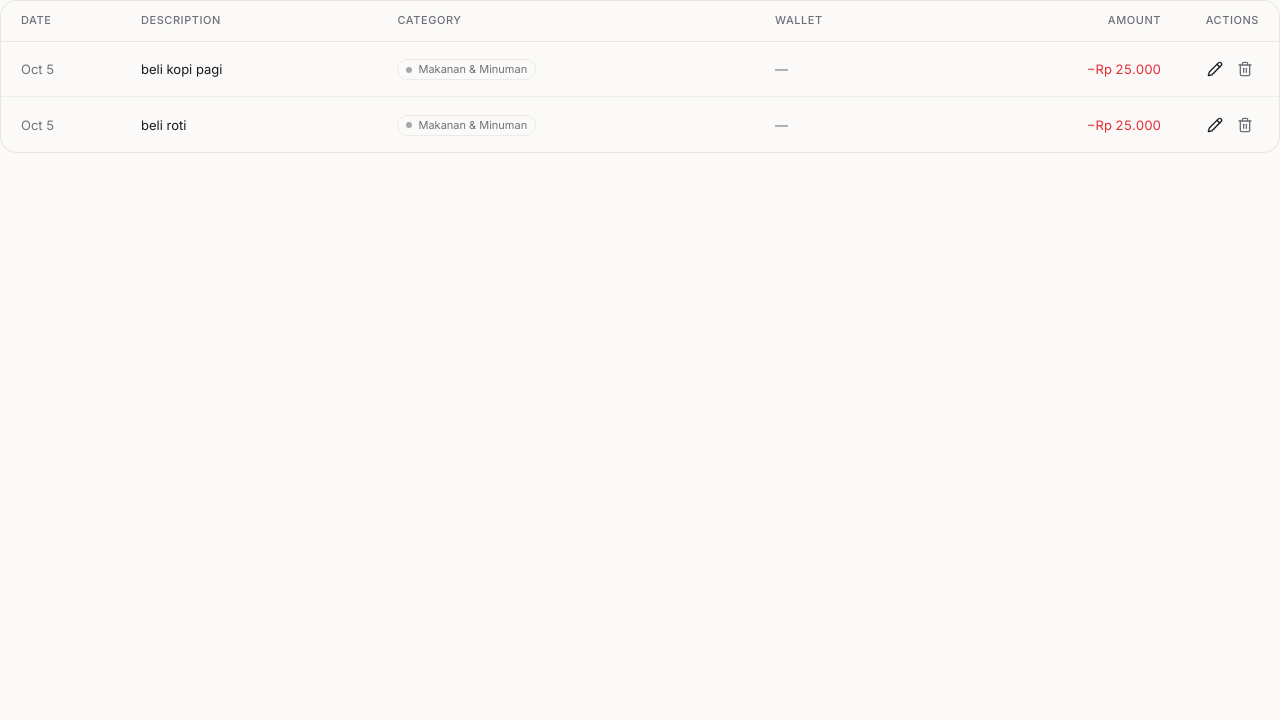
it: U-4: snackbar action semantics › Undo is a native, focusable <button> with a >=40px inline target
Click the button named "Delete transaction" in the row of "beli kopi pagi" at (1245, 69), box x1=1231 y1=55 x2=1259 y2=83
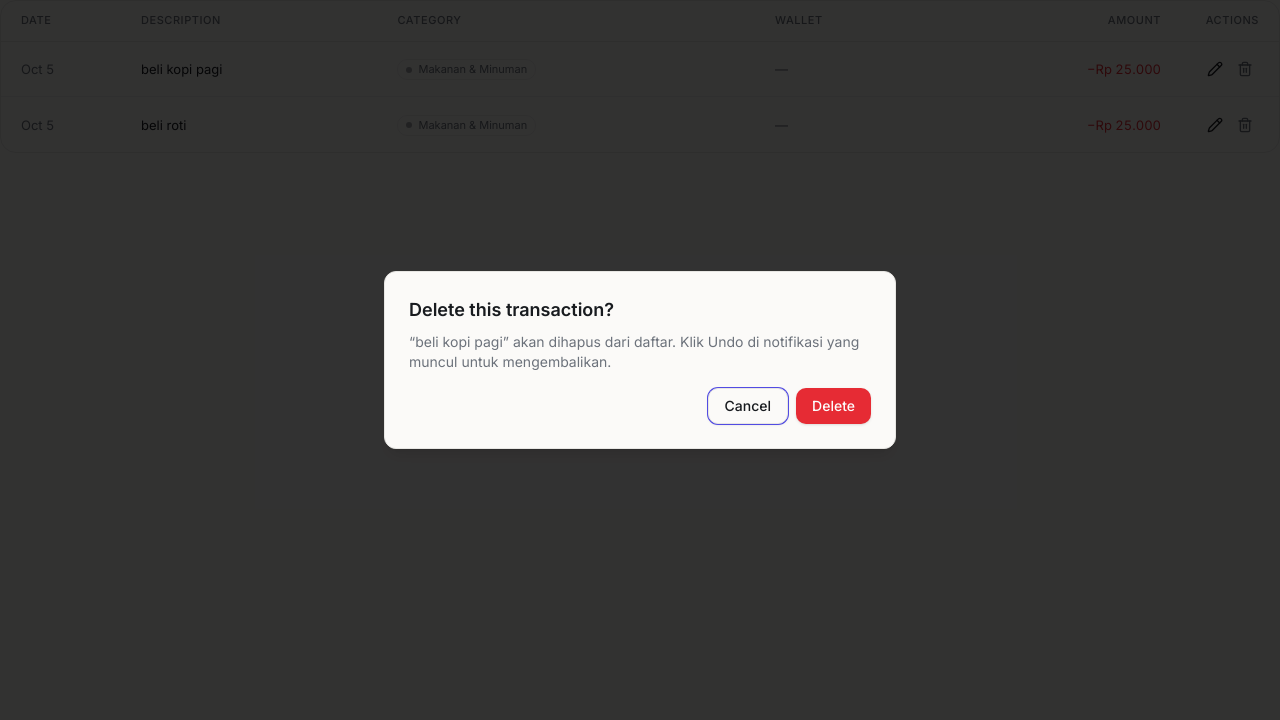
Click the button "Delete" at (834, 406), box x1=796 y1=388 x2=871 y2=424
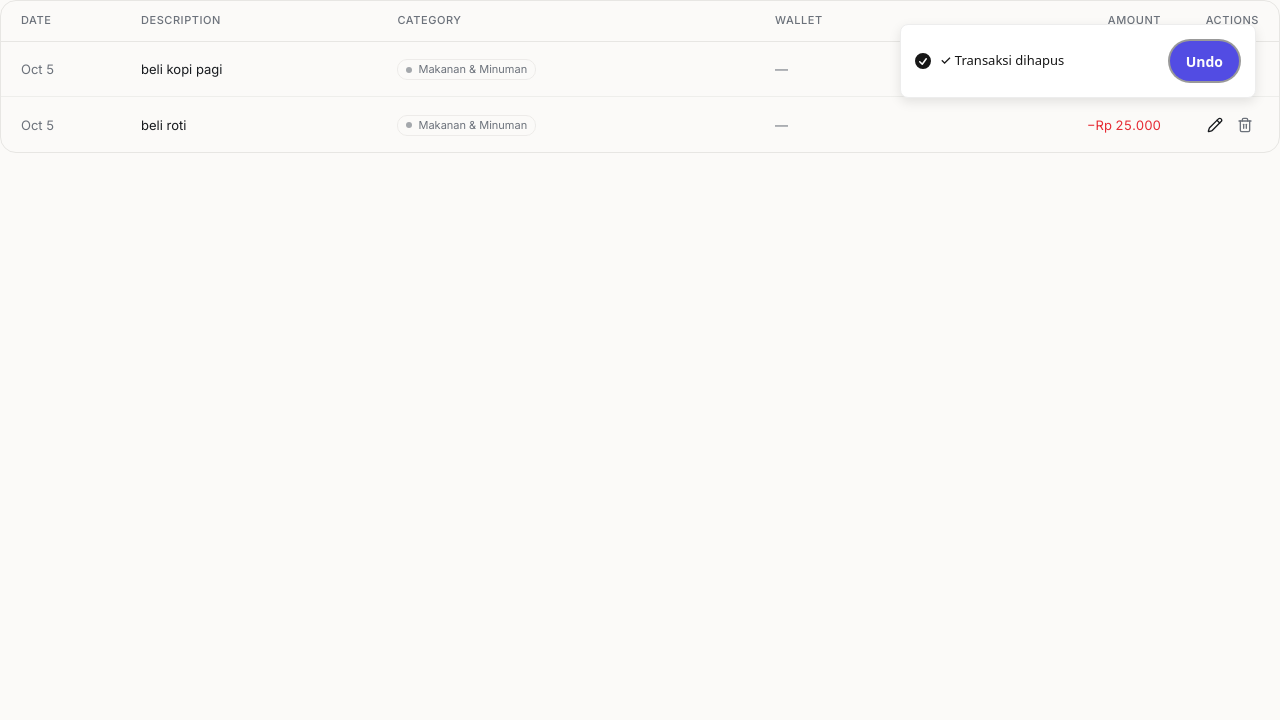
expect the button "Undo" is enabled: met, box x1=1170 y1=41 x2=1239 y2=81
expect the text "✓ Transaksi dihapus" is shown: met, box x1=940 y1=51 x2=1064 y2=71
